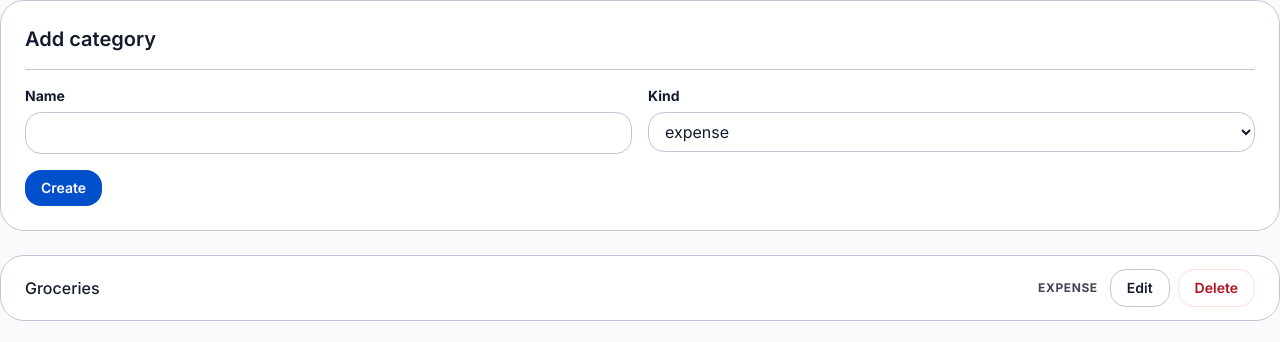
it: CategoriesContainer › deletes a category
The width and height of the screenshot is (1280, 342).
Expected: the text "Groceries" is shown, [25, 278, 100, 298]
Click the button "Delete" at coordinates (1216, 288), box [1178, 269, 1255, 307]
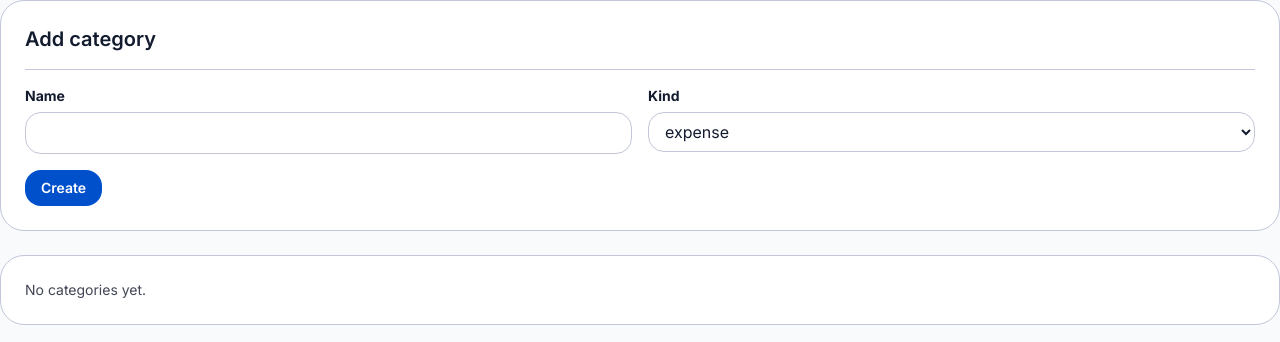
Result: the text "No categories yet." is shown at [25, 281, 146, 298]
